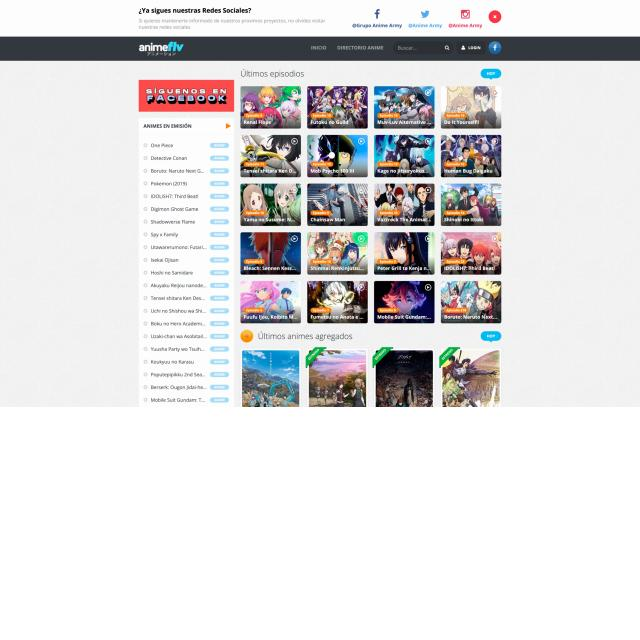input: (392, 41, 454, 55)
logo: (138, 40, 184, 57)
navigation: (308, 42, 385, 54)
